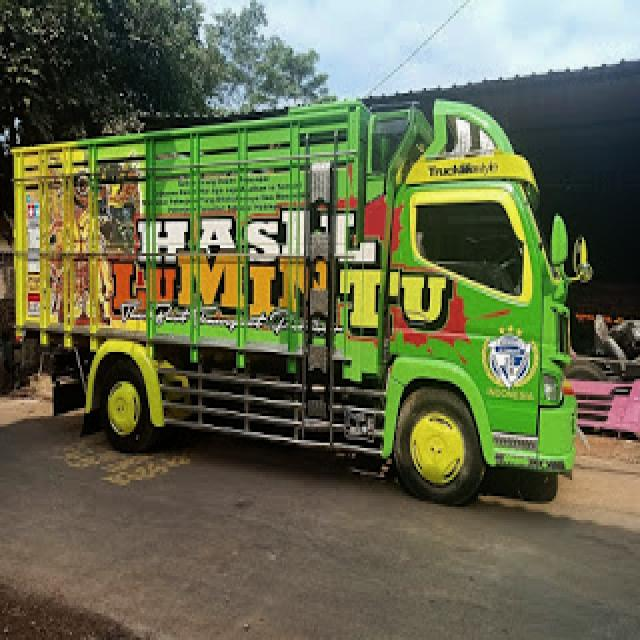truck: (13, 94, 593, 500)
